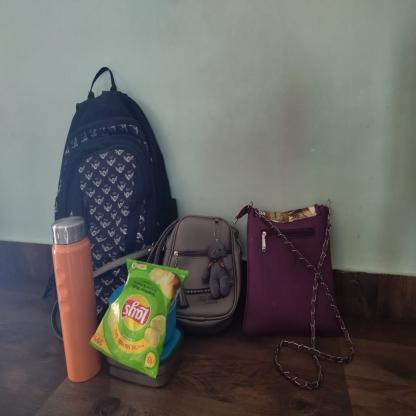cream_and_onion: (89, 259, 189, 381)
